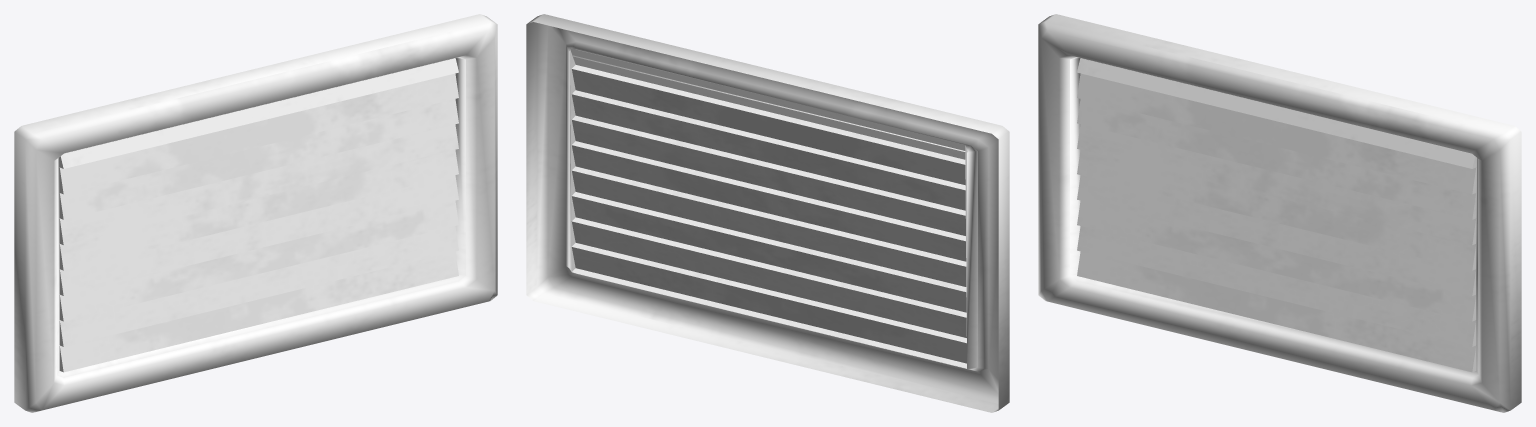
The model's file is Vent Small.fbx.
3 renders of one model, left to right at view 1: azimuth 30°, elevation 25°; view 2: azimuth 150°, elevation 25°; view 3: azimuth 330°, elevation 25°, orthographic.
Parts seen in each view (by area): view 1: Vent Small; view 2: Vent Small; view 3: Vent Small.
Part boxes in pixels (x1,y1,x2,y2): Vent Small: (14,14,497,412); Vent Small: (526,14,1009,412); Vent Small: (1038,14,1521,412).
Bounding box in the file's own units: 42.16 × 23.81 × 2.28.
